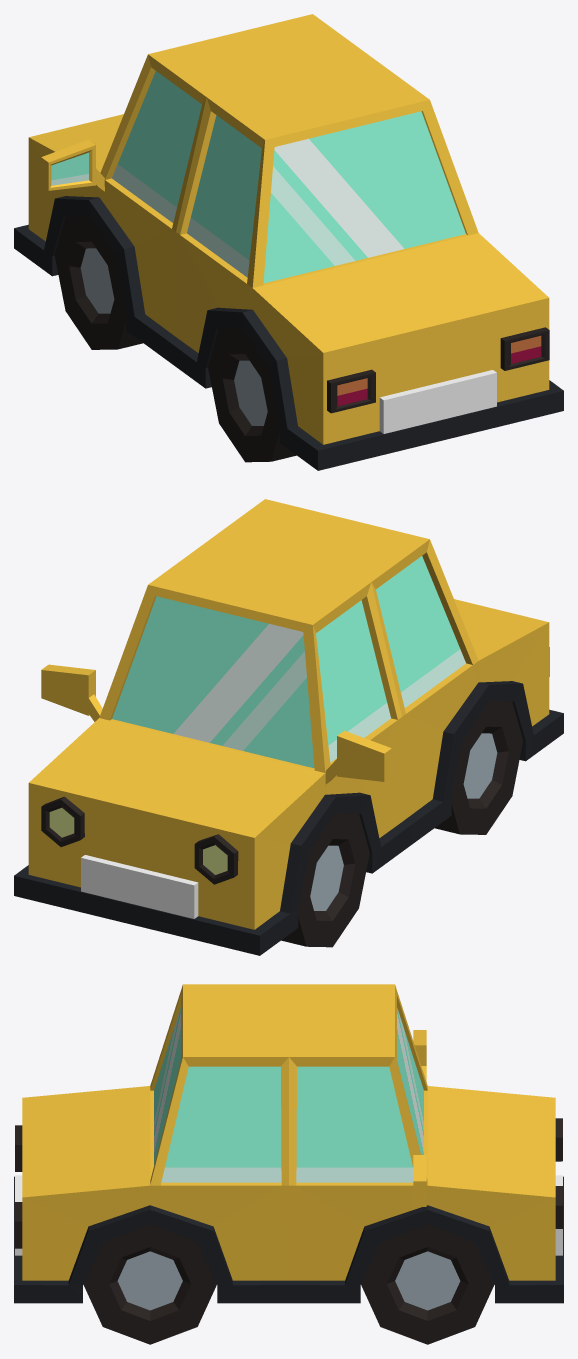
Rendered from Car_geo.fbx.
The picture shows the model from 3 angles, top to bottom: view 1: azimuth 30°, elevation 25°; view 2: azimuth 150°, elevation 25°; view 3: azimuth 270°, elevation 25°; orthographic projection. The views are drawn at different scales.
Visible parts, largest first — view 1: Car_geo; view 2: Car_geo; view 3: Car_geo.
Part boxes in pixels (left/top/right/bottom): Car_geo: left=14, top=14, right=563, bottom=470; Car_geo: left=14, top=499, right=563, bottom=955; Car_geo: left=14, top=984, right=563, bottom=1344.
Size of the model in its own units: 1.78 by 2.73 by 1.48.
